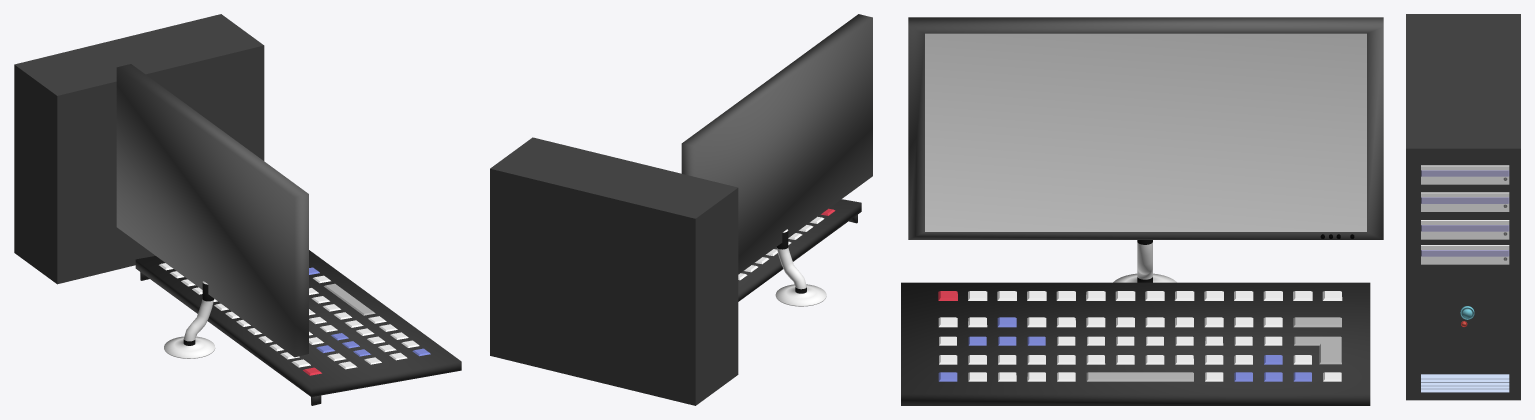
File: computer.dae
3 renders of one model, left to right at view 1: azimuth 30°, elevation 25°; view 2: azimuth 150°, elevation 25°; view 3: azimuth 270°, elevation 25°, orthographic. The views are drawn at different scales.
Parts seen in each view (by area): view 1: Cube_002, Cylinder_006, Cube_003, Cube_000, Cylinder; view 2: Cube_002, Cylinder_006, Cube_003, Cylinder, Cube_000; view 3: Cylinder_006, Cube_003, Cube_002, Cube_000, Cylinder.
Part boxes in pixels (box(x1,y1,x2,y2)): Cube_002: box(14, 14, 264, 284); Cylinder_006: box(116, 64, 308, 357); Cube_003: box(135, 250, 461, 405); Cube_000: box(159, 263, 430, 375); Cylinder: box(164, 281, 215, 358); Cube_002: box(490, 137, 738, 405); Cylinder_006: box(681, 14, 872, 274); Cube_003: box(738, 199, 861, 301); Cylinder: box(775, 229, 826, 306); Cube_000: box(738, 208, 835, 280); Cylinder_006: box(908, 17, 1383, 239); Cube_003: box(901, 282, 1370, 405); Cube_002: box(1406, 14, 1520, 400); Cube_000: box(938, 291, 1342, 381); Cylinder: box(1113, 240, 1176, 282).
Size of the model in its own units: 0.404 by 0.7547 by 0.3791.
